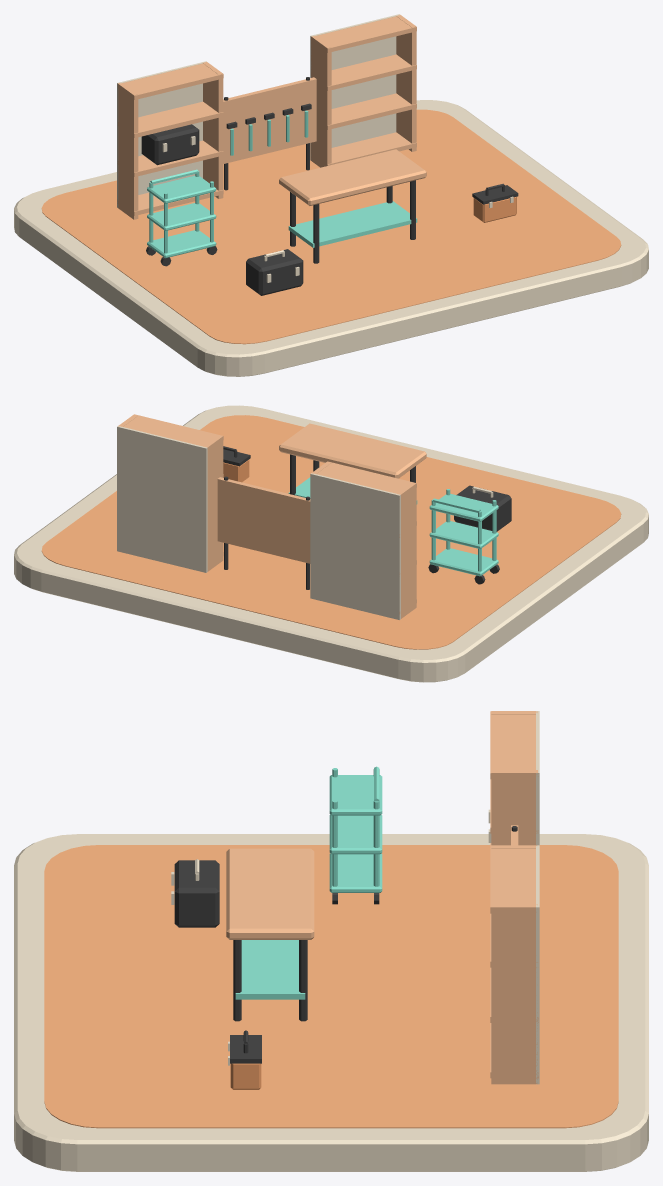
3 renders of one model, top to bottom at view 1: azimuth 30°, elevation 25°; view 2: azimuth 150°, elevation 25°; view 3: azimuth 270°, elevation 25°, orthographic. The views are drawn at different scales.
Parts seen in each view (by area): view 1: COM-02 Floor Surface, COM-01 Rounded Base Direct, Peg board, Worktop, Back.001, Lower shelf, Back, Side, Side.002, Case, Side.003, Side.001 (+13 smaller); view 2: COM-02 Floor Surface, COM-01 Rounded Base Direct, Back.001, Back, Peg board, Worktop, Side, Side.002, Shelf.003, Shelf.007, Case, Tray.001 (+3 smaller); view 3: COM-02 Floor Surface, COM-01 Rounded Base Direct, Worktop, Side.003, Lower shelf, Case, Shelf.003, Shelf.007, Side.001, Tray.002, Tray.001, Tray (+5 smaller).
Boxes of the visible parts, x1,y1,x2,y2 form: COM-02 Floor Surface: (41, 109, 621, 344); COM-01 Rounded Base Direct: (14, 100, 648, 376); Peg board: (223, 77, 316, 163); Worktop: (279, 149, 426, 205); Back.001: (310, 14, 399, 160); Lower shelf: (288, 201, 417, 247); Back: (117, 61, 207, 207); Side: (118, 83, 138, 219); Side.002: (311, 36, 331, 167); Case: (246, 249, 303, 295); Side.003: (396, 15, 416, 151); Side.001: (203, 61, 223, 198); COM-02 Floor Surface: (41, 415, 621, 649); COM-01 Rounded Base Direct: (14, 405, 648, 682); Back.001: (117, 426, 207, 572); Back: (310, 473, 400, 619); Peg board: (217, 477, 310, 563); Worktop: (279, 423, 426, 478); Side: (397, 482, 416, 618); Side.002: (203, 435, 223, 571); Shelf.003: (316, 461, 416, 499); Shelf.007: (123, 414, 223, 451); Case: (454, 485, 511, 531); Tray.001: (429, 521, 498, 549); COM-02 Floor Surface: (44, 845, 618, 1128); COM-01 Rounded Base Direct: (14, 834, 648, 1171); Worktop: (226, 848, 314, 939); Side.003: (491, 904, 537, 1084); Lower shelf: (235, 940, 305, 999); Case: (174, 860, 219, 927); Shelf.003: (490, 711, 538, 779); Shelf.007: (490, 845, 536, 913); Side.001: (491, 770, 537, 845); Tray.002: (329, 775, 382, 815); Tray.001: (329, 814, 382, 854); Tray: (329, 853, 382, 892).
Bounding box in the file's own units: 6 × 1.9 × 5.2.
1 material, 1 textured.
